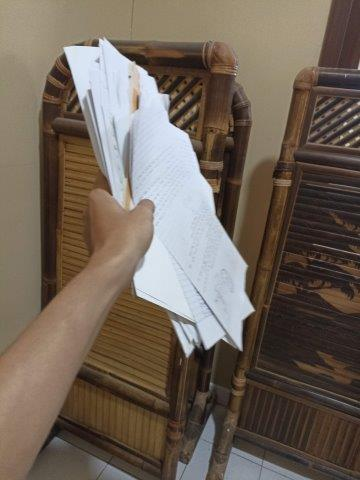kertas: (63, 36, 254, 358)
